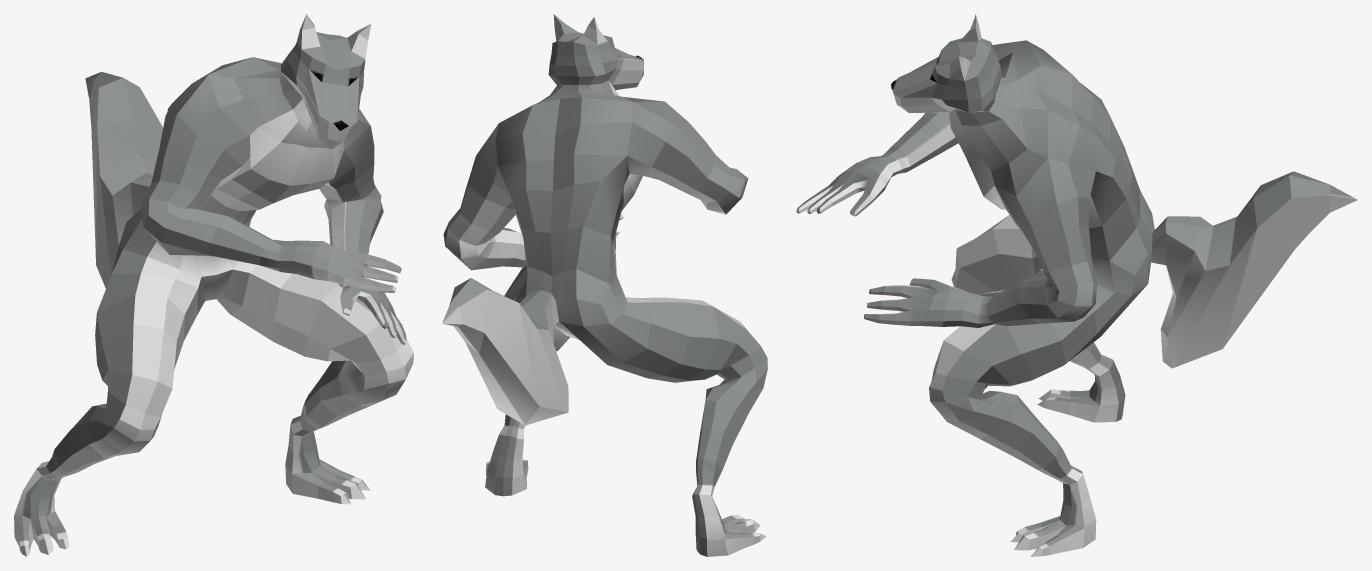
Rendered from WolfAttack(60).obj.
The picture shows the model from 3 angles, left to right: view 1: azimuth 30°, elevation 25°; view 2: azimuth 150°, elevation 25°; view 3: azimuth 270°, elevation 25°; orthographic projection. The views are drawn at different scales.
Parts seen in each view (by area): view 1: Box001; view 2: Box001; view 3: Box001.
Boxes of the visible parts, x1,y1,x2,y2 form: Box001: [14, 14, 413, 556]; Box001: [442, 14, 767, 556]; Box001: [796, 14, 1357, 556].
Bounding box in the file's own units: 89.34 × 123 × 125.
